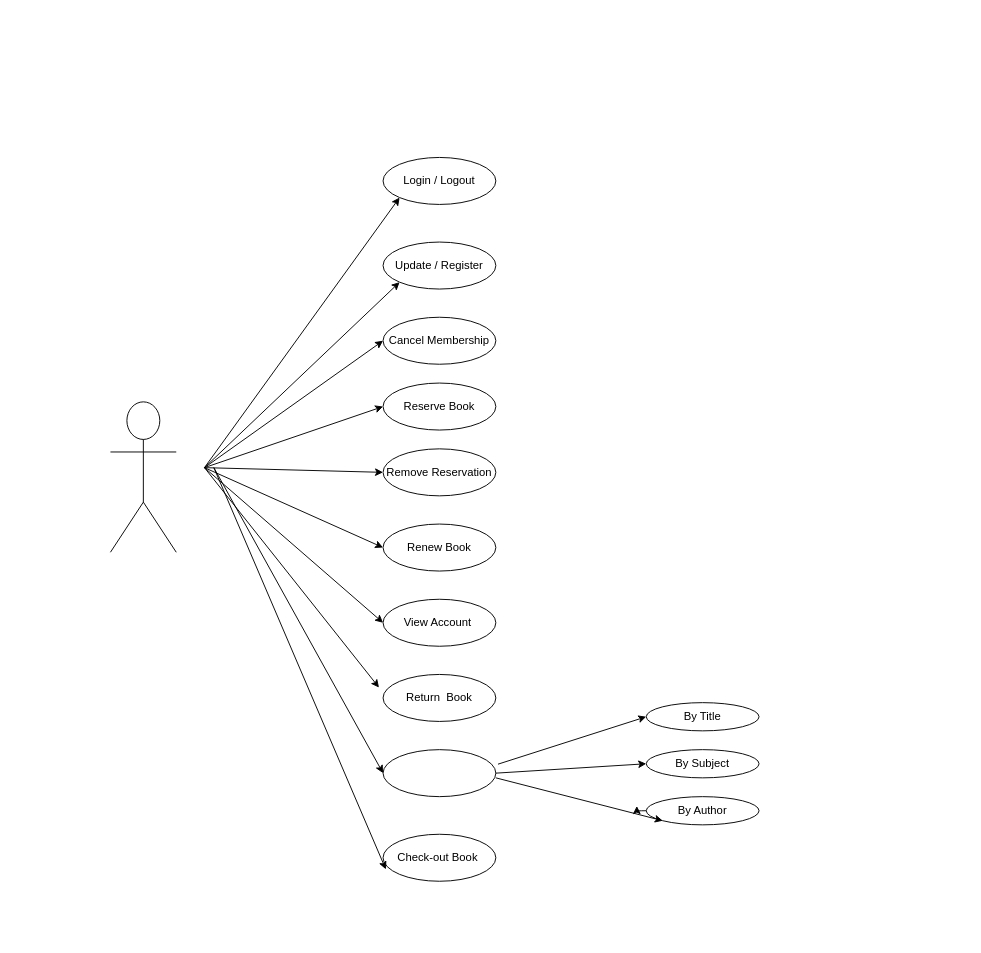
This 981x953 diagram has some shape labels left out. The shapes that lost their labels are listed below. From the top down, each one's centre as x and y in pixels, then its label:
At [143,476]: "User".
At [439,773]: "Searching Category".
